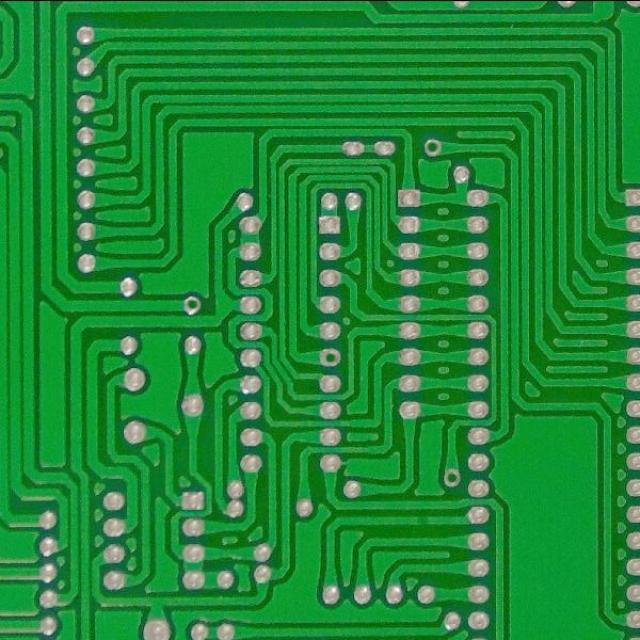Missing_Hole: (318, 346, 343, 369), (182, 294, 204, 316), (442, 466, 463, 489), (422, 136, 443, 158)
